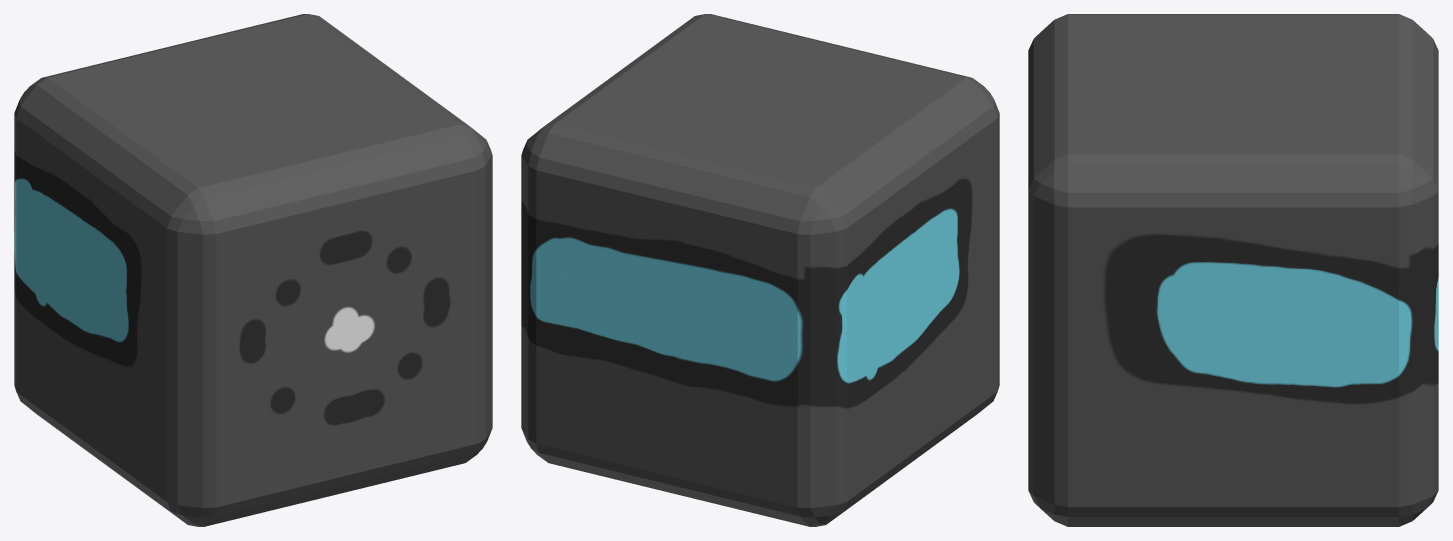
Rendered from cab.glb.
3 views of the same model, side by side, from view 1: azimuth 30°, elevation 25°; view 2: azimuth 150°, elevation 25°; view 3: azimuth 270°, elevation 25° (orthographic). The views are drawn at different scales.
Parts seen in each view (by area): view 1: Cab; view 2: Cab; view 3: Cab.
Part boxes in pixels (bbox=[...]): Cab: bbox=[14, 14, 492, 526]; Cab: bbox=[521, 14, 999, 526]; Cab: bbox=[1028, 14, 1438, 526].
Bounding box in the file's own units: 1 × 1 × 1.
Materials: 1 (1 with a texture image).
